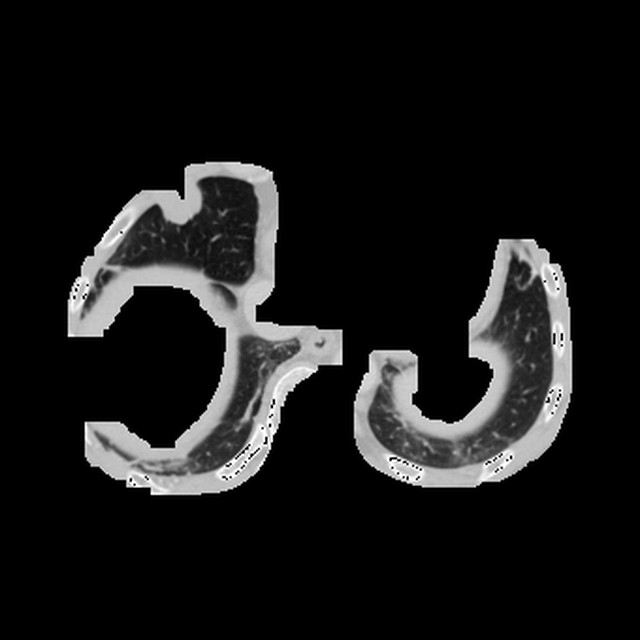PN: (160, 183, 201, 224)
